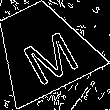M_NW: (8, 15, 76, 82)
